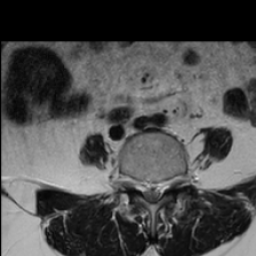CCS_normal: (148, 175, 156, 207)
LFS_normal: (164, 170, 175, 196)
LLS_normal: (157, 175, 166, 203)
RFS_normal: (131, 171, 140, 196)
RLS_normal: (140, 175, 148, 202)
